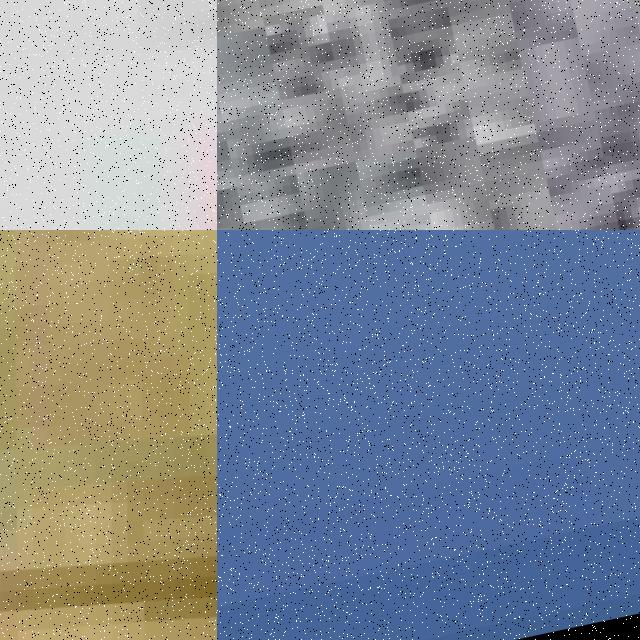drone: (0, 230, 217, 640), (0, 0, 217, 230)
